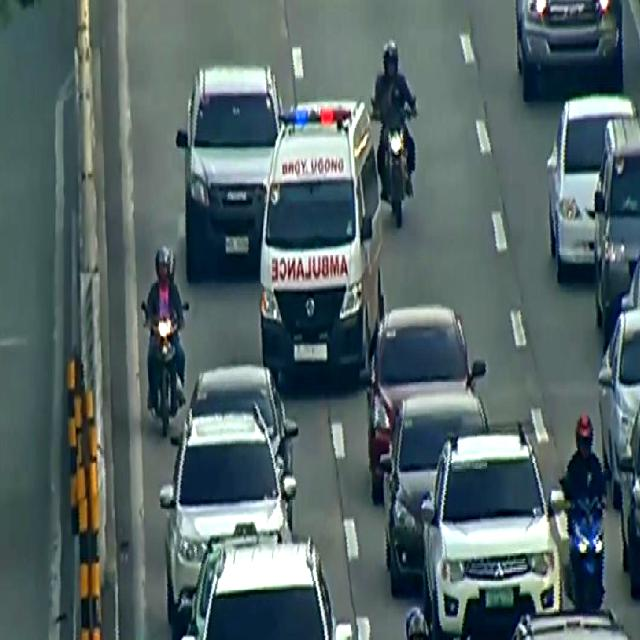emergency: (256, 99, 386, 397)
